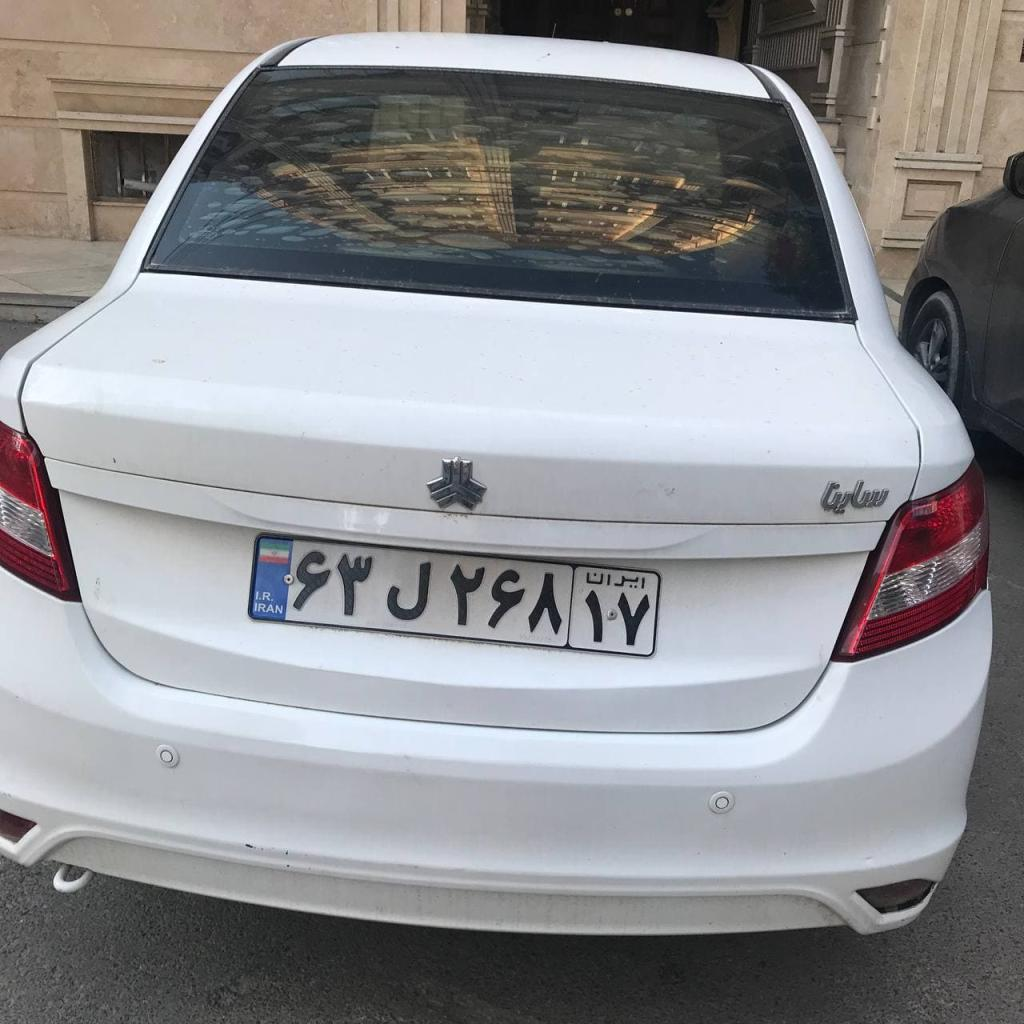Plates: (248, 532, 661, 657)
